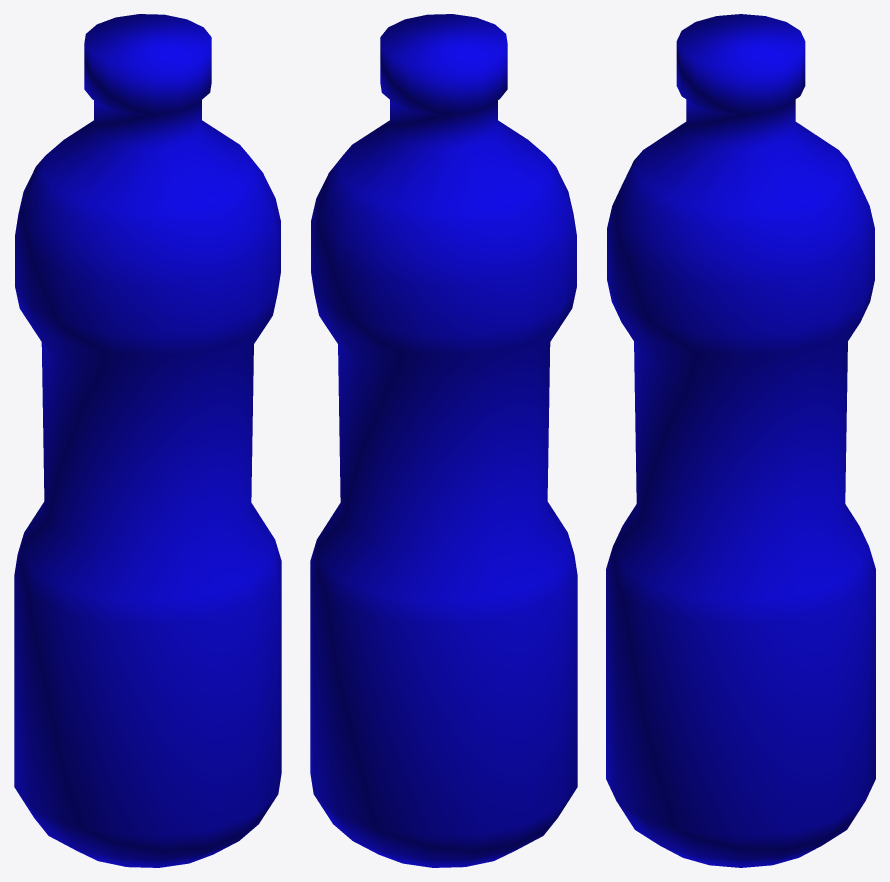
File: frizzante.fbx
3 views of the same model, side by side, from view 1: azimuth 30°, elevation 25°; view 2: azimuth 150°, elevation 25°; view 3: azimuth 270°, elevation 25° (orthographic).
Visible parts, largest first — view 1: acqua_max.001; view 2: acqua_max.001; view 3: acqua_max.001.
Boxes of the visible parts, x1=… form: acqua_max.001: x1=14, y1=14, x2=281, y2=867; acqua_max.001: x1=310, y1=14, x2=577, y2=867; acqua_max.001: x1=606, y1=14, x2=875, y2=867.
Size of the model in its own units: 68.5 by 222 by 68.5.
